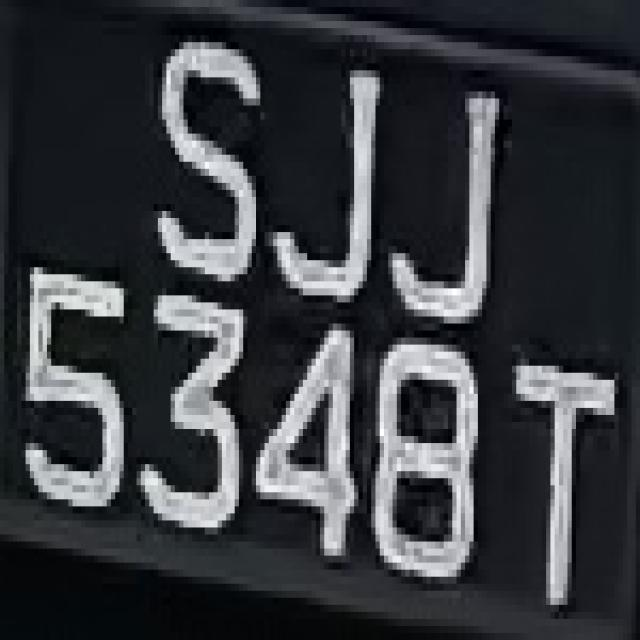3: (124, 281, 239, 549)
4: (248, 274, 376, 584)
5: (13, 232, 128, 521)
8: (376, 309, 499, 626)
J: (388, 77, 529, 345), (277, 35, 401, 303)
S: (136, 0, 268, 281)
T: (503, 316, 623, 619)
